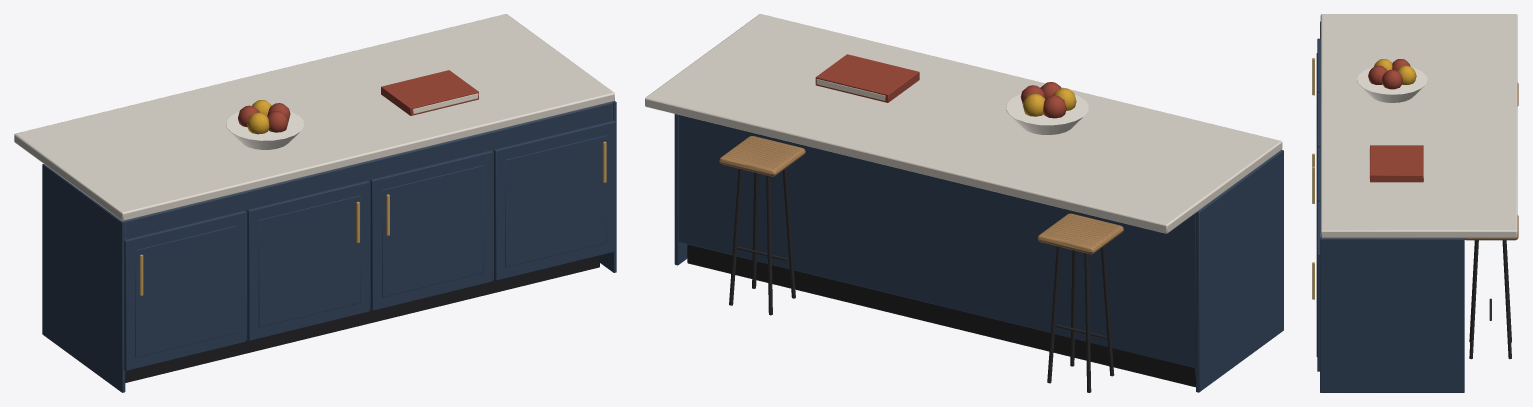
Rendered from kitchen_island.glb.
The picture shows the model from 3 angles, left to right: view 1: azimuth 30°, elevation 25°; view 2: azimuth 150°, elevation 25°; view 3: azimuth 270°, elevation 25°; orthographic projection. The views are drawn at different scales.
Visible parts, largest first — view 1: kitchen_island; view 2: kitchen_island; view 3: kitchen_island.
Boxes of the visible parts, <box> form: kitchen_island: <box>14,14,616,392</box>; kitchen_island: <box>645,14,1283,392</box>; kitchen_island: <box>1312,14,1518,392</box>.
Bounding box in the file's own units: 11.54 × 4.72 × 4.61.
Materials: 10 (2 with a texture image).
